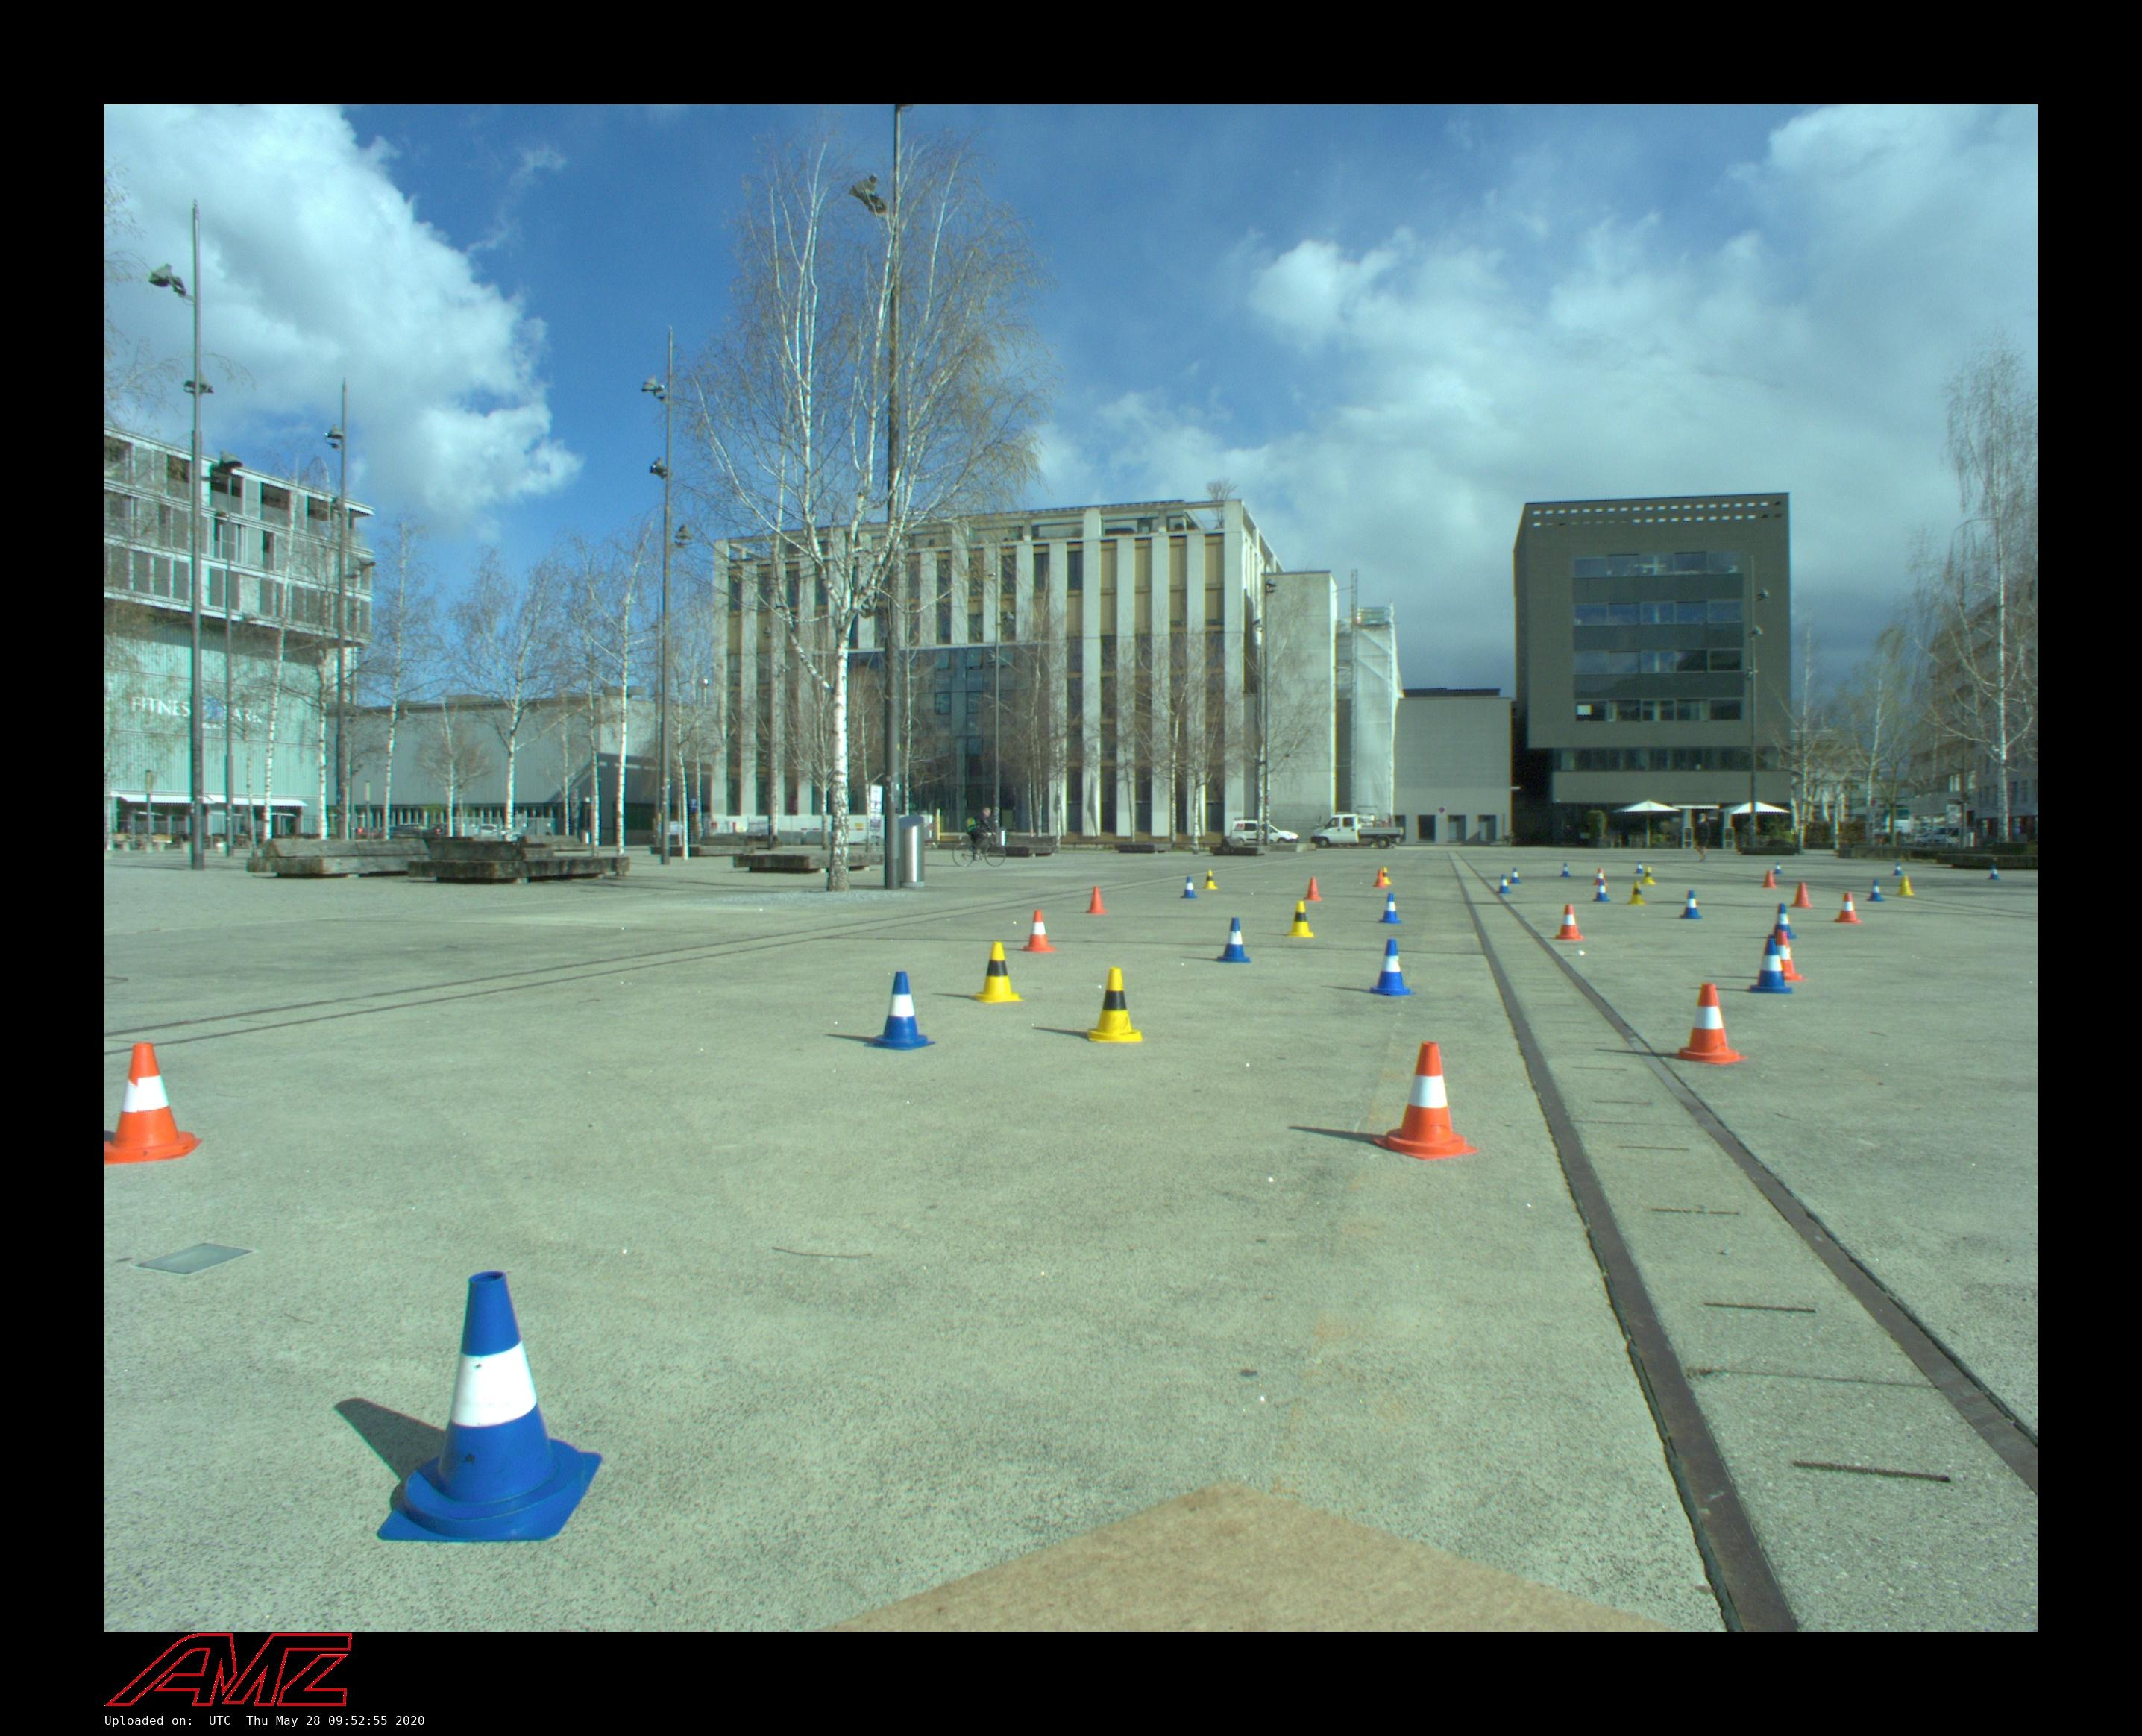blue_cone: (376, 1270, 604, 1543), (863, 973, 935, 1050), (1364, 939, 1416, 996), (1747, 935, 1793, 994), (1217, 918, 1251, 962), (1770, 903, 1797, 939), (1377, 893, 1403, 925), (1680, 889, 1703, 919), (1867, 879, 1885, 902), (1593, 879, 1610, 902), (1180, 877, 1198, 898), (1495, 873, 1511, 895), (1509, 868, 1522, 884), (1561, 863, 1572, 877), (1773, 861, 1784, 873), (1892, 863, 1903, 875), (1634, 861, 1644, 873)
orange_cone: (1373, 1043, 1478, 1160), (105, 1042, 204, 1164), (1671, 983, 1745, 1065), (1765, 930, 1805, 981), (1024, 911, 1058, 953), (1554, 903, 1584, 941), (1834, 893, 1860, 925), (1086, 887, 1107, 914), (1791, 882, 1812, 907), (1304, 877, 1322, 902), (1761, 870, 1777, 887), (1373, 870, 1387, 887), (1595, 868, 1607, 886)
yellow_cone: (1086, 967, 1145, 1042), (969, 942, 1024, 1003), (1286, 902, 1315, 937), (1626, 880, 1646, 905), (1898, 875, 1915, 896), (1203, 870, 1217, 889), (1378, 868, 1393, 886), (1642, 866, 1657, 884)
